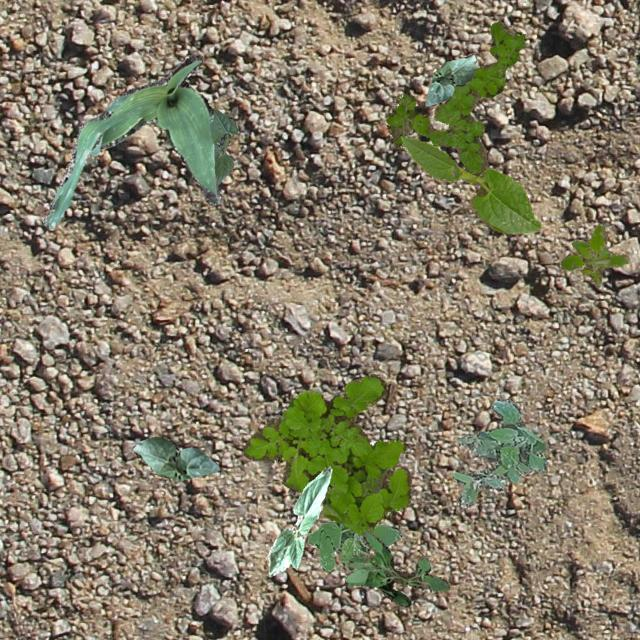crop: (42, 54, 220, 228), (400, 134, 540, 232), (266, 466, 331, 574), (130, 436, 218, 480), (424, 54, 476, 106), (210, 108, 237, 184)
weed: (242, 374, 409, 534), (386, 21, 524, 176), (452, 398, 546, 508), (344, 528, 448, 606), (306, 520, 402, 570), (560, 222, 628, 284)
